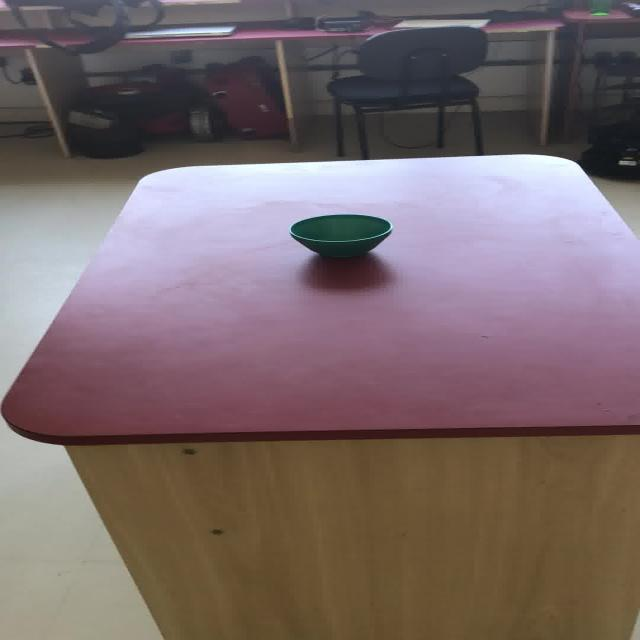bowl: (287, 213, 393, 258)
